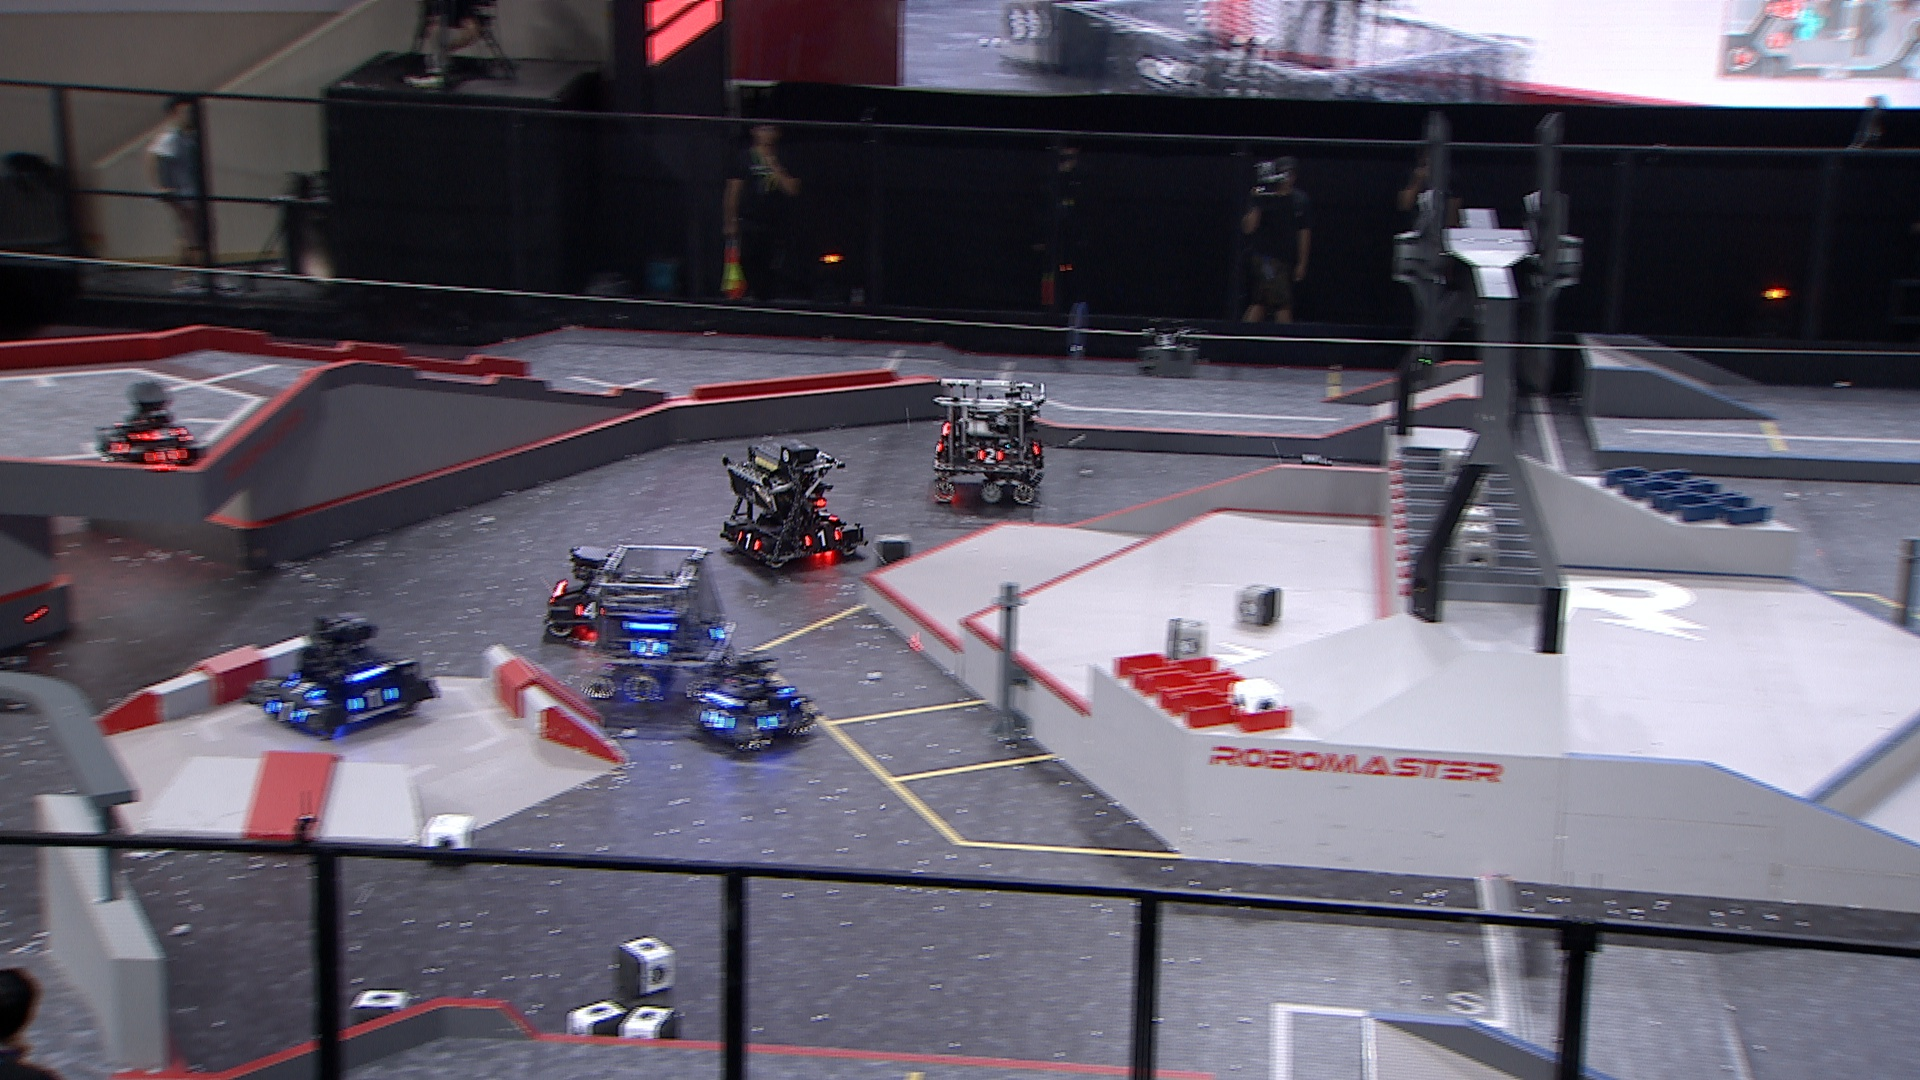armor: (347, 684, 400, 713), (264, 698, 309, 727), (624, 636, 673, 659), (285, 676, 328, 699), (698, 705, 736, 731), (145, 446, 193, 465), (754, 707, 793, 731), (800, 527, 840, 550), (133, 425, 179, 443), (571, 600, 604, 622), (103, 433, 131, 458), (975, 446, 1006, 467), (707, 615, 728, 644), (736, 531, 761, 553), (818, 509, 841, 524)
car: (245, 611, 438, 746), (585, 541, 737, 703), (719, 436, 868, 572), (930, 377, 1044, 510), (688, 647, 823, 757), (91, 378, 210, 473), (543, 545, 638, 640)
